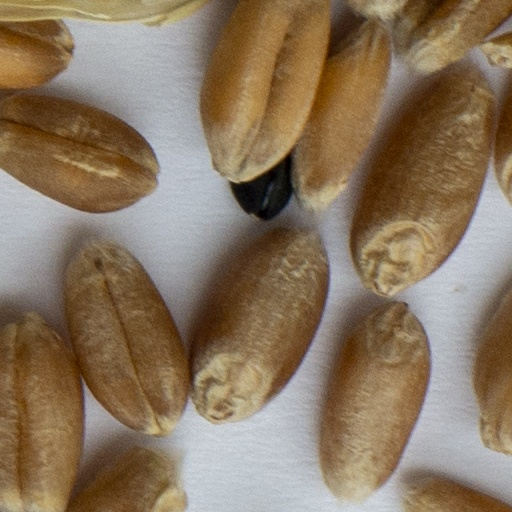Fallopia-Convolvulus-poly: (232, 160, 290, 219)
Wheat-grain-poly: (0, 313, 80, 511)
